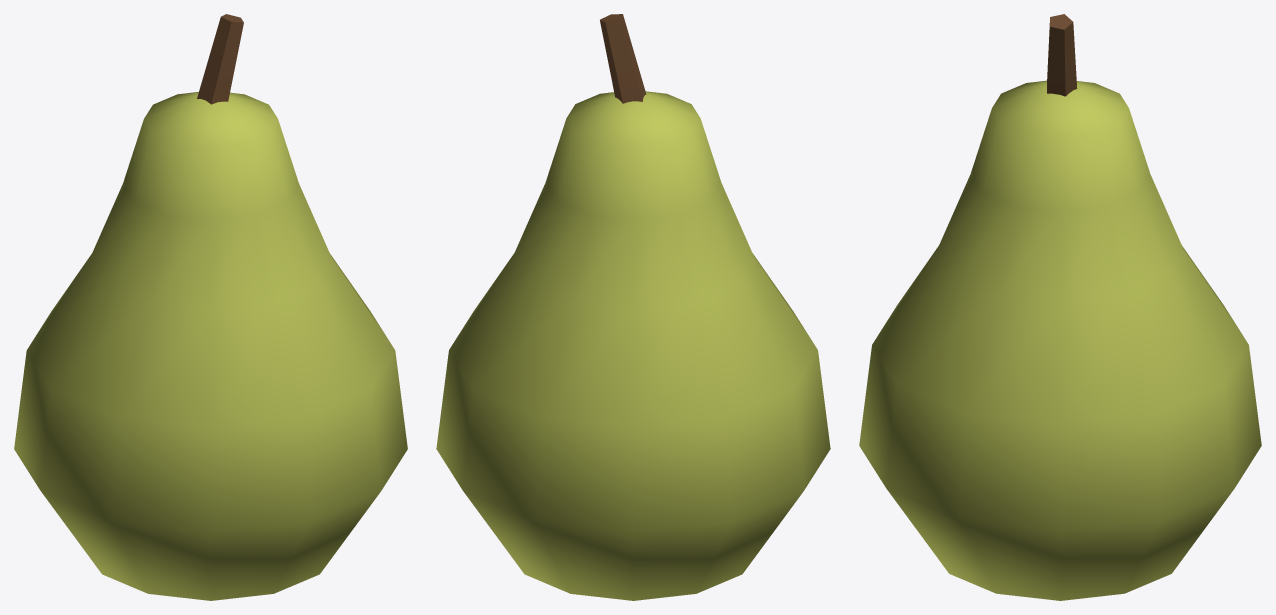
The model's file is fruit_pear.glb.
3 renders of one model, left to right at view 1: azimuth 30°, elevation 25°; view 2: azimuth 150°, elevation 25°; view 3: azimuth 270°, elevation 25°, orthographic. The views are drawn at different scales.
Visible parts, largest first — view 1: fruit_pear; view 2: fruit_pear; view 3: fruit_pear.
Boxes of the visible parts, left/top/right/bottom form: fruit_pear: left=14, top=14, right=407, bottom=600; fruit_pear: left=436, top=14, right=830, bottom=600; fruit_pear: left=859, top=14, right=1261, bottom=600.
Bounding box in the file's own units: 0.094 × 0.1428 × 0.094.
